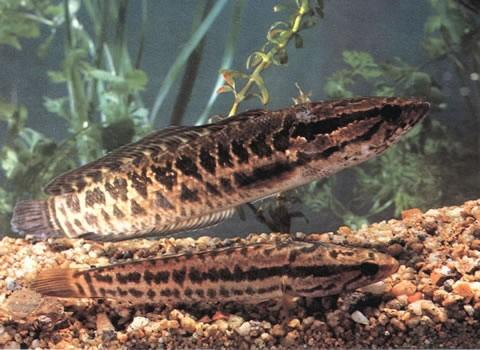Snakehead: (9, 83, 433, 234), (19, 234, 405, 316)
